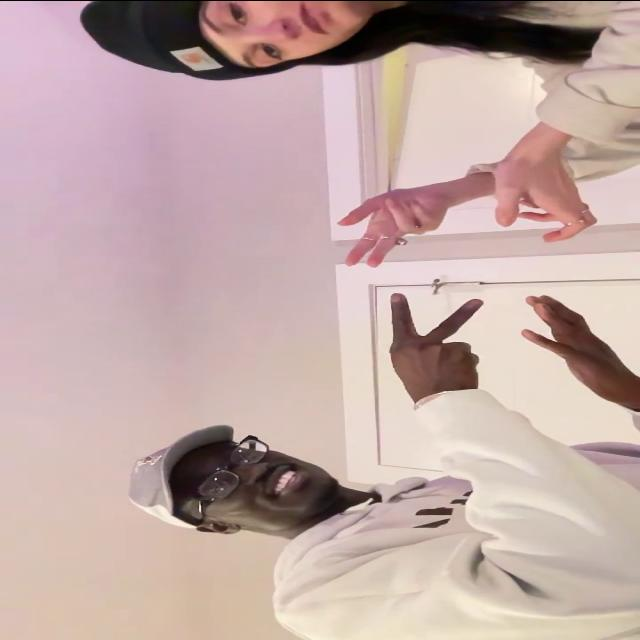Scissors: (388, 292, 484, 392), (336, 188, 454, 268)
